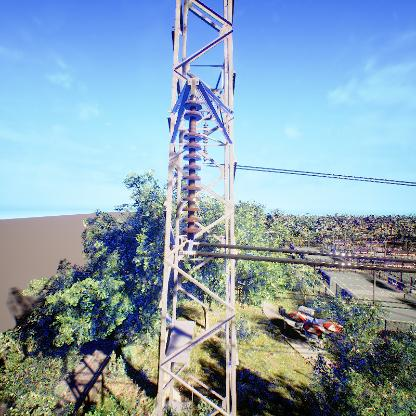insulator: (182, 99, 202, 240)
